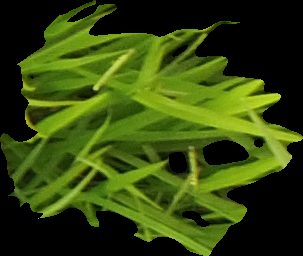grass: (1, 1, 301, 254)
